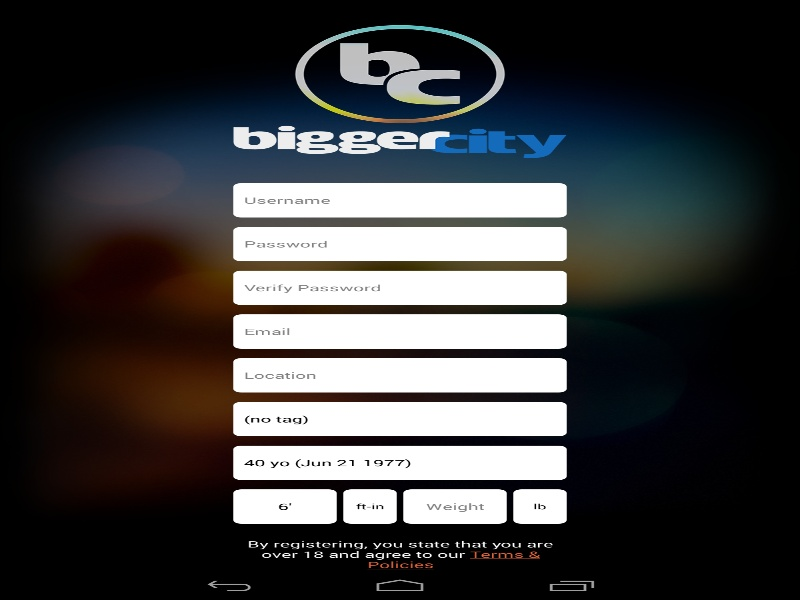Input: (233, 226, 566, 261), (233, 270, 566, 305), (233, 183, 566, 217), (233, 314, 566, 348), (403, 489, 506, 523)
